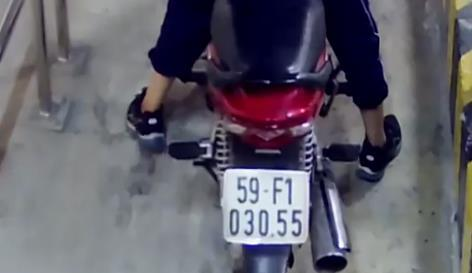lisence: (222, 168, 310, 245)
